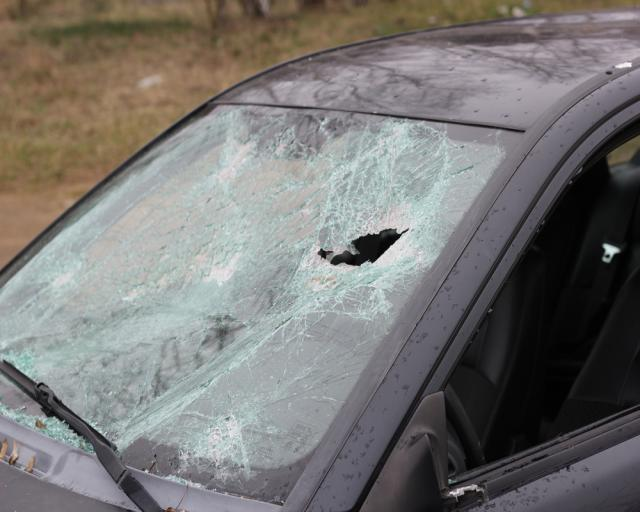glass shatter: (0, 104, 524, 506)
